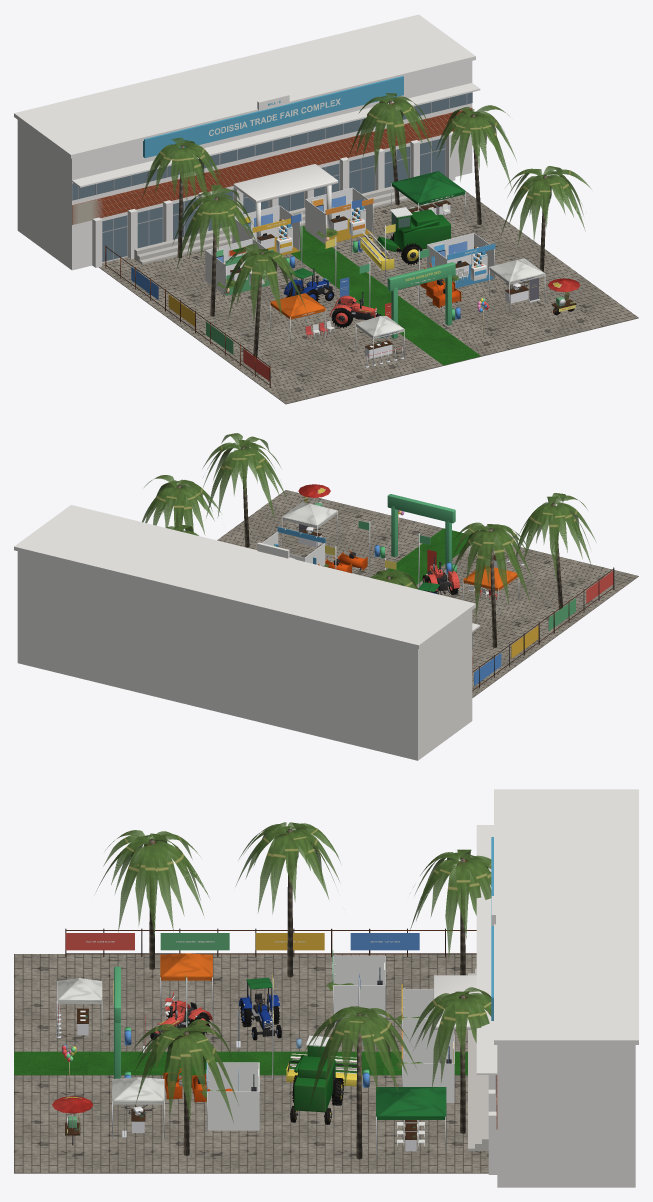
File: agri_fair.glb
3 renders of one model, top to bottom at view 1: azimuth 30°, elevation 25°; view 2: azimuth 150°, elevation 25°; view 3: azimuth 270°, elevation 25°, orthographic. The views are drawn at different scales.
Parts seen in each view (by area): view 1: agri_fair; view 2: agri_fair; view 3: agri_fair.
Boxes of the visible parts, x1,y1,x2,y2 form: agri_fair: (14,14,638,404); agri_fair: (14,433,638,760); agri_fair: (14,789,638,1187).
Size of the model in its own units: 34.4 by 10.14 by 36.2.
Materials: 107 (23 with a texture image).
